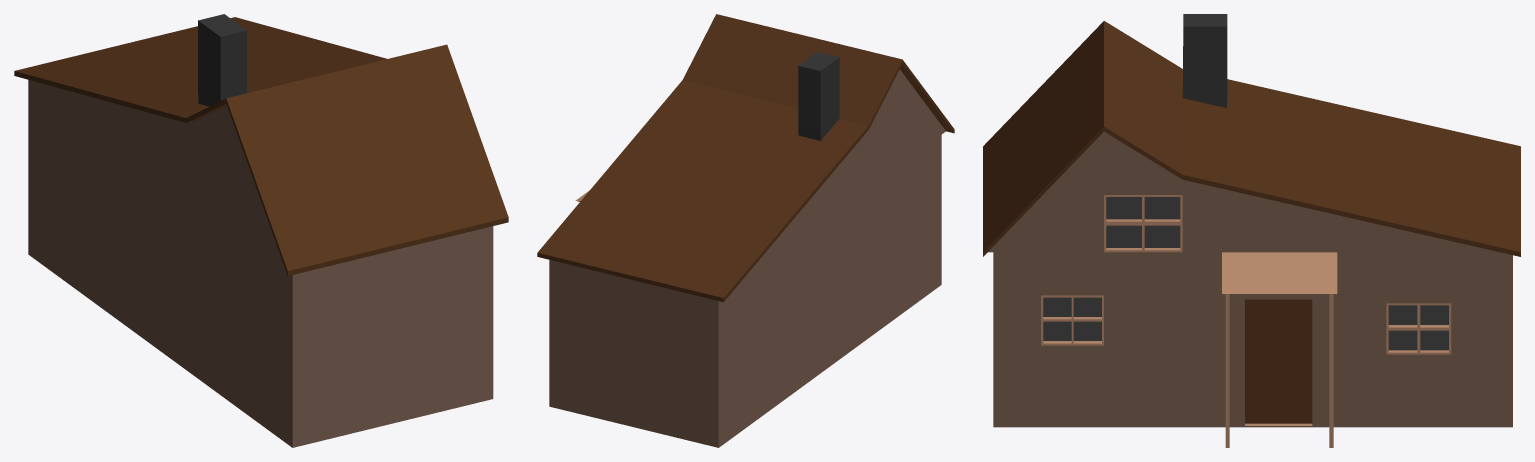
Rendered from cabin.fbx.
3 renders of one model, left to right at view 1: azimuth 30°, elevation 25°; view 2: azimuth 150°, elevation 25°; view 3: azimuth 270°, elevation 25°, orthographic. The views are drawn at different scales.
Parts seen in each view (by area): view 1: Cube; view 2: Cube; view 3: Cube.
Boxes of the visible parts, bbox=[...] form: Cube: bbox=[14, 14, 508, 447]; Cube: bbox=[537, 14, 954, 447]; Cube: bbox=[983, 14, 1520, 447].
Bounding box in the file's own units: 268 × 318 × 472.
